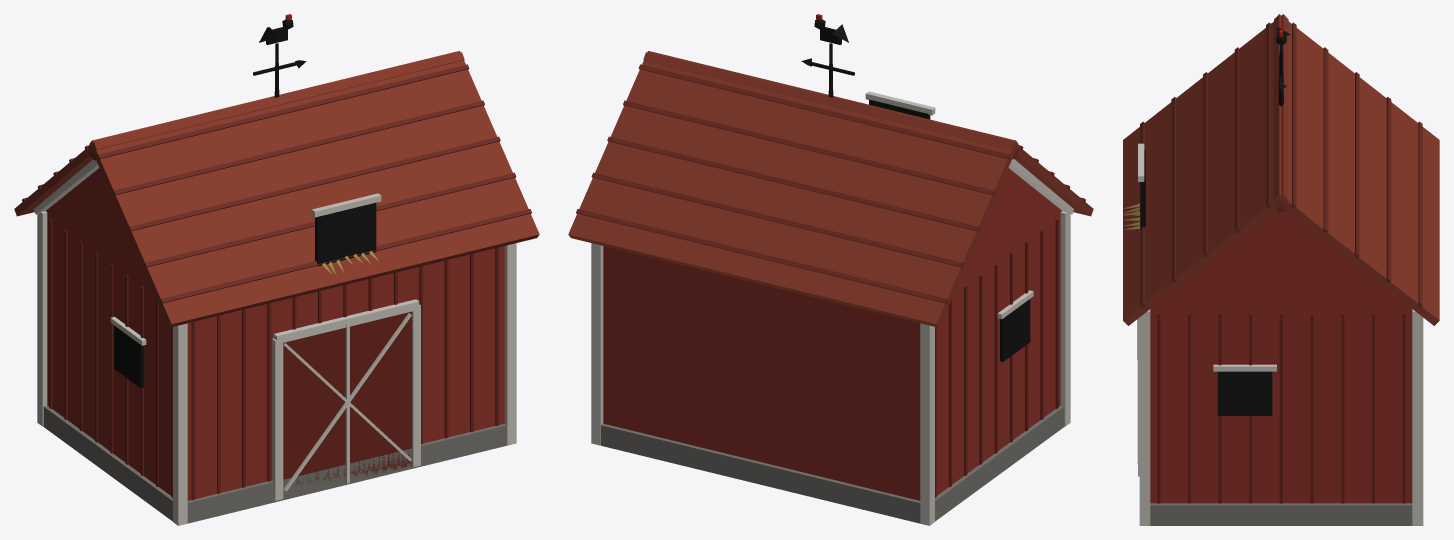
The model's file is barn.glb.
3 renders of one model, left to right at view 1: azimuth 30°, elevation 25°; view 2: azimuth 150°, elevation 25°; view 3: azimuth 270°, elevation 25°, orthographic.
Parts seen in each view (by area): view 1: barn; view 2: barn; view 3: barn.
Part boxes in pixels (box(x1,y1,x2,y2)): barn: box(14, 14, 539, 525); barn: box(568, 14, 1093, 525); barn: box(1123, 14, 1439, 525).
Bounding box in the file's own units: 4.72 × 5.07 × 3.49.
